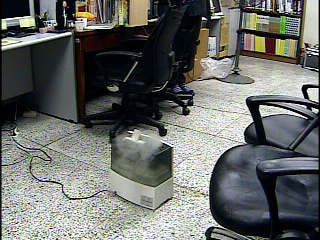smoke: (110, 126, 163, 173)
